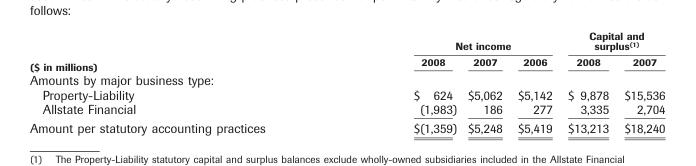table: (28, 29, 664, 135)
table column: (28, 29, 338, 135), (338, 29, 461, 135), (559, 29, 615, 135), (509, 29, 559, 135), (615, 29, 664, 135), (461, 29, 509, 135)
table column header: (28, 29, 664, 72)
table projected row header: (28, 72, 664, 87)
table row: (28, 29, 664, 53), (28, 53, 664, 72), (28, 117, 664, 135), (28, 101, 664, 117), (28, 72, 664, 87), (28, 87, 664, 101)
table spanning cell: (28, 29, 338, 72), (338, 29, 559, 53), (559, 29, 664, 53)
